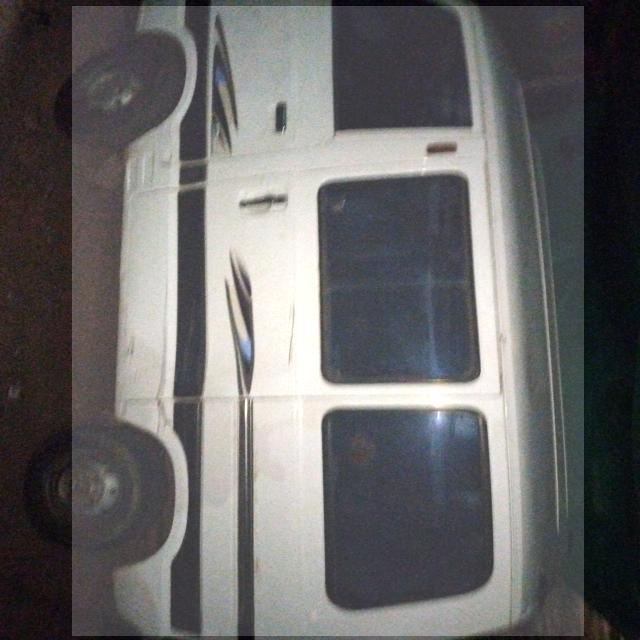Travller: (72, 6, 584, 636)
